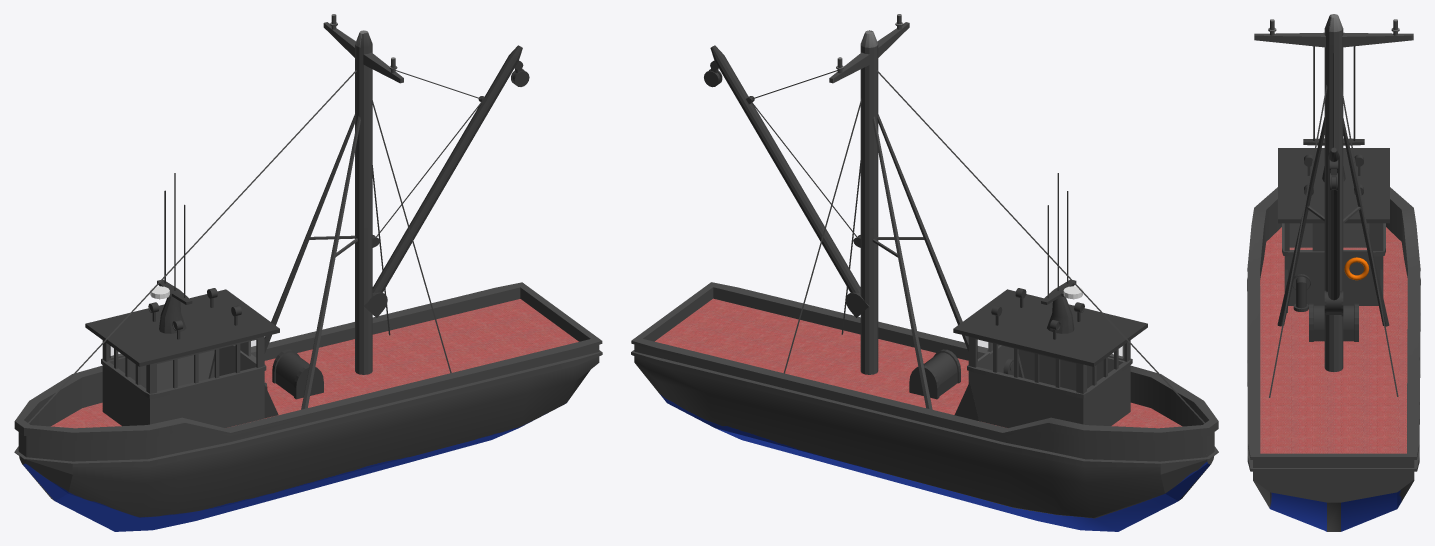
File: trawler.glb
The picture shows the model from 3 angles, left to right: view 1: azimuth 30°, elevation 25°; view 2: azimuth 150°, elevation 25°; view 3: azimuth 270°, elevation 25°; orthographic projection. The views are drawn at different scales.
Visible parts, largest first — view 1: hull, pCube32, pCube33, pCylinder5, pCylinder22, pCylinder20, pCylinder23, pCylinder21, pCube20, cables1; view 2: hull, pCube32, pCube33, pCylinder5, pCylinder22, pCylinder23, pCylinder21, pCylinder20, pCube20, cables1; view 3: hull, pCube33, pCube32, pCylinder5, pCube20, pCylinder22, pCylinder23, pCylinder20, pCylinder21, cables2, cables3, pCylinder29 (+4 smaller).
Boxes of the visible parts, box(x1,y1,x2,y2) form: hull: box(14, 282, 602, 531); pCube32: box(101, 336, 266, 428); pCube33: box(85, 289, 279, 366); pCylinder5: box(355, 30, 372, 374); pCylinder22: box(372, 45, 522, 292); pCylinder20: box(301, 116, 360, 409); pCylinder23: box(272, 349, 323, 399); pCylinder21: box(264, 114, 355, 353); pCube20: box(323, 22, 403, 83); cables1: box(28, 70, 356, 423); hull: box(631, 282, 1218, 531); pCube32: box(967, 336, 1132, 427); pCube33: box(953, 289, 1147, 366); pCylinder5: box(860, 30, 878, 374); pCylinder22: box(710, 45, 860, 292); pCylinder23: box(909, 349, 960, 399); pCylinder21: box(872, 116, 932, 409); pCylinder20: box(877, 114, 968, 351); pCube20: box(829, 22, 909, 83); cables1: box(876, 70, 1204, 423); hull: box(1247, 187, 1420, 531); pCube33: box(1278, 148, 1389, 223); pCube32: box(1282, 223, 1385, 305); pCylinder5: box(1324, 14, 1343, 371); pCube20: box(1254, 32, 1413, 47); pCylinder22: box(1328, 147, 1339, 300); pCylinder23: box(1309, 303, 1358, 341); pCylinder20: box(1277, 117, 1324, 326); pCylinder21: box(1343, 118, 1389, 326); cables2: box(1269, 85, 1327, 397); cables3: box(1340, 85, 1398, 396); pCylinder29: box(1293, 276, 1308, 311).
Size of the model in its own units: 19.03 by 14.87 by 5.07.
Materials: 7 (2 with a texture image).
